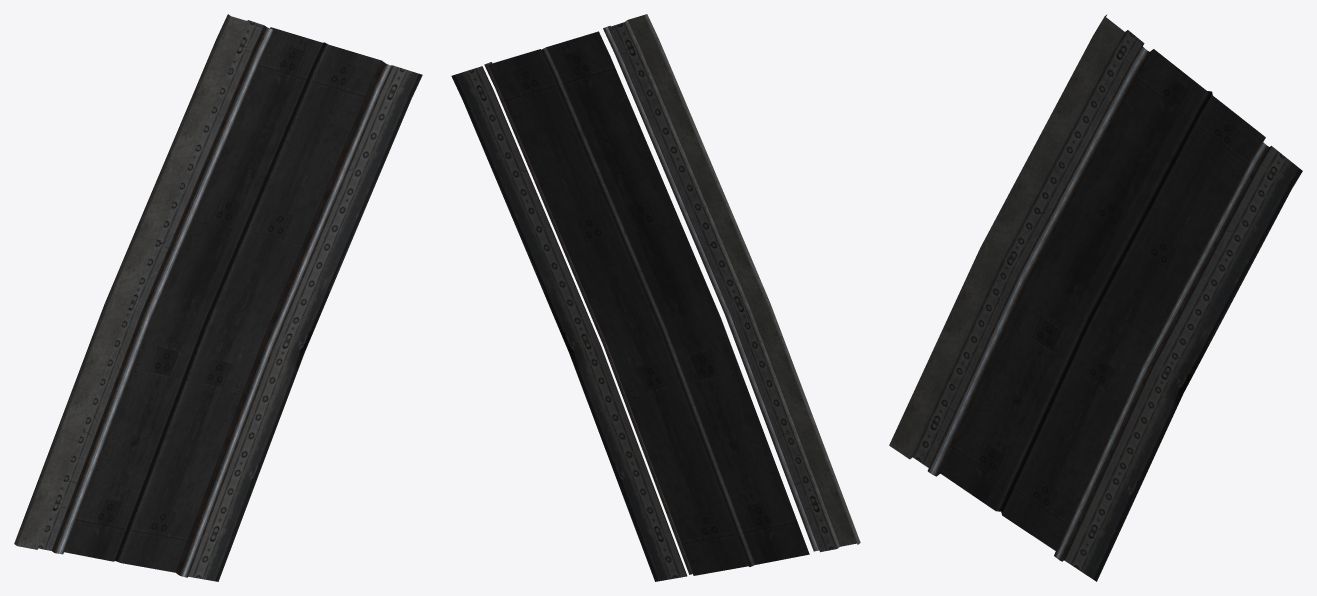
Rendered from p6_express_train_track_a02_LOD0.obj.
The picture shows the model from 3 angles, left to right: view 1: azimuth 30°, elevation 25°; view 2: azimuth 150°, elevation 25°; view 3: azimuth 330°, elevation 25°; orthographic projection.
Visible parts, largest first — view 1: metal_aircraft_catapult_strip, dub_concrete_wall_01_trim_clean, railroadtrack_top, railroadtrack_side; view 2: metal_aircraft_catapult_strip, dub_concrete_wall_01_trim_clean, railroadtrack_top; view 3: metal_aircraft_catapult_strip, dub_concrete_wall_01_trim_clean, railroadtrack_top, railroadtrack_side.
Part boxes in pixels (x1,y1,x2,y2): metal_aircraft_catapult_strip: (38,20,422,581); dub_concrete_wall_01_trim_clean: (14,14,250,549); railroadtrack_top: (54,27,393,577); railroadtrack_side: (52,25,385,575); metal_aircraft_catapult_strip: (451,22,836,581); dub_concrete_wall_01_trim_clean: (624,14,860,548); railroadtrack_top: (484,26,819,574); metal_aircraft_catapult_strip: (913,30,1302,581); dub_concrete_wall_01_trim_clean: (889,14,1127,459); railroadtrack_top: (927,45,1269,561); railroadtrack_side: (936,44,1270,561).
Bounding box in the file's own units: 813 × 1076 × 23.02.
